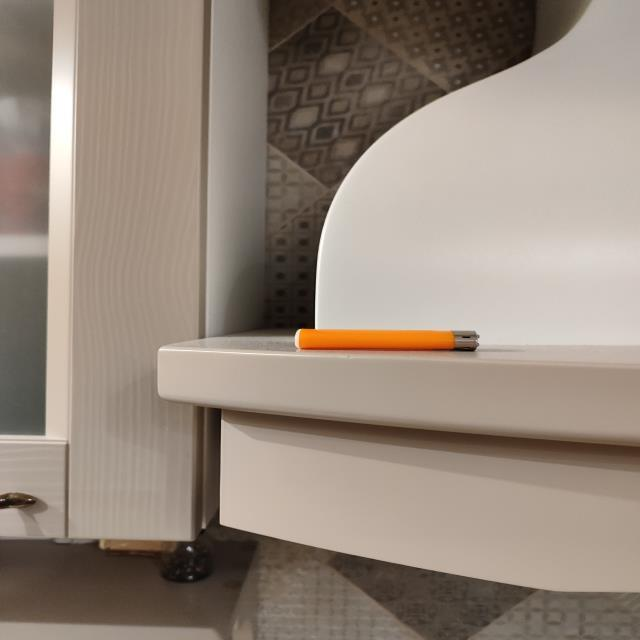lighter: (295, 329, 478, 351)
